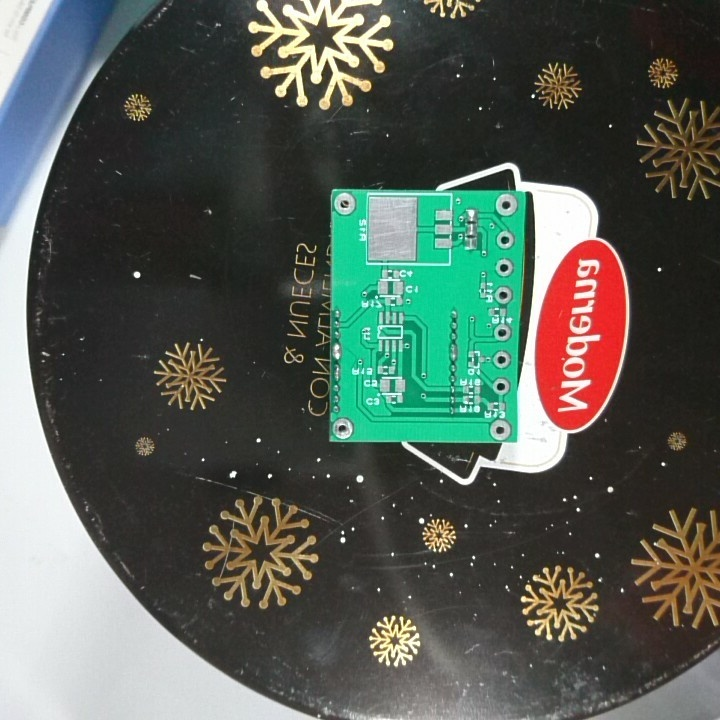F: (494, 192, 519, 218), (334, 192, 357, 218), (494, 228, 518, 252), (488, 417, 512, 440), (331, 417, 354, 440), (491, 323, 514, 344), (493, 257, 514, 278), (492, 284, 512, 306), (491, 350, 513, 369), (491, 375, 510, 396)
P: (331, 361, 343, 383), (330, 341, 342, 362), (446, 343, 457, 362)
